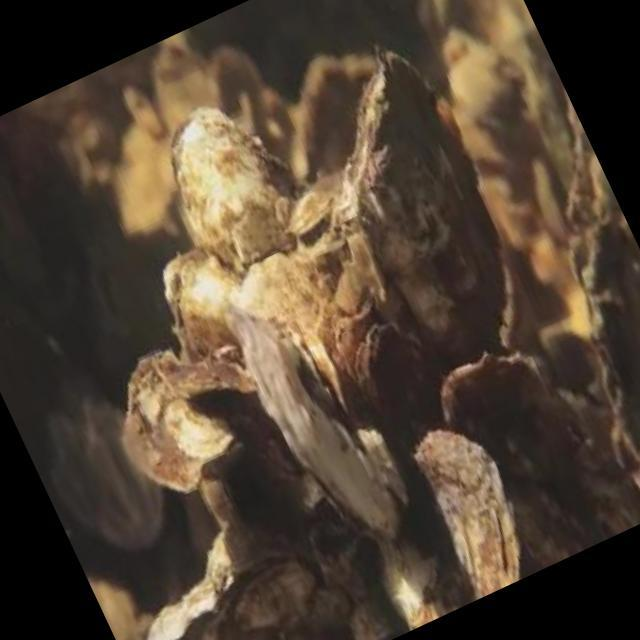Oyster- Indeterminate: (288, 32, 537, 388), (208, 307, 426, 563), (124, 94, 322, 288), (566, 91, 640, 490), (115, 346, 262, 503), (429, 342, 569, 503), (231, 220, 372, 352), (284, 43, 375, 192), (101, 119, 188, 239), (370, 530, 447, 633), (190, 40, 272, 124), (145, 46, 220, 133), (140, 569, 228, 640)
Oyster-Closed: (394, 416, 532, 613), (339, 312, 457, 464), (190, 530, 330, 640), (150, 236, 261, 364), (285, 318, 355, 431), (279, 160, 356, 243)
Oyster-Open: (78, 248, 136, 338)
